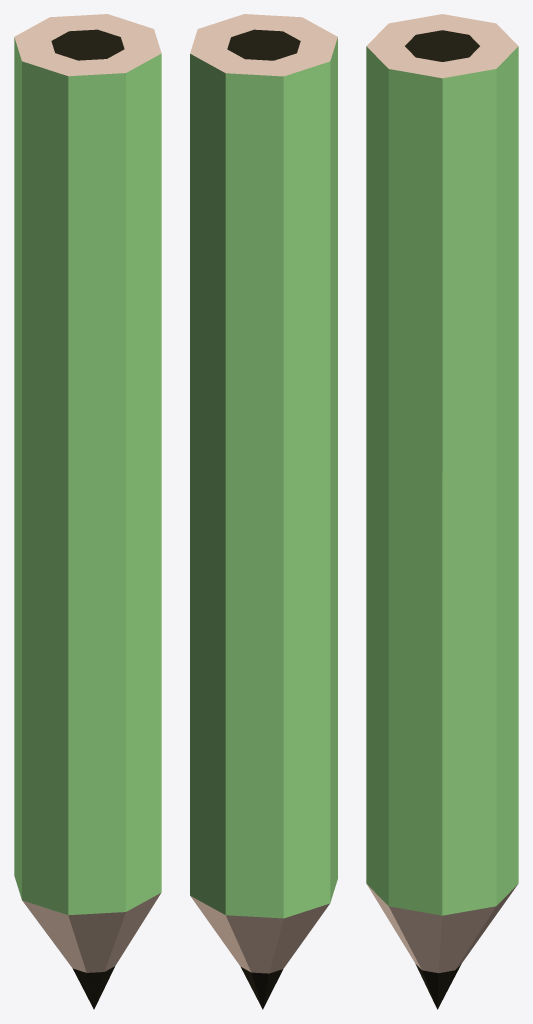
Rendered from Pencil.fbx.
3 views of the same model, side by side, from view 1: azimuth 30°, elevation 25°; view 2: azimuth 150°, elevation 25°; view 3: azimuth 270°, elevation 25° (orthographic).
Visible parts, largest first — view 1: Cylinder; view 2: Cylinder; view 3: Cylinder.
Part boxes in pixels (box(x1,y1,x2,y2)): Cylinder: box(14, 14, 161, 1009); Cylinder: box(190, 14, 337, 1009); Cylinder: box(366, 14, 518, 1009).
Size of the model in its own units: 0.02 by 0.1395 by 0.02.
